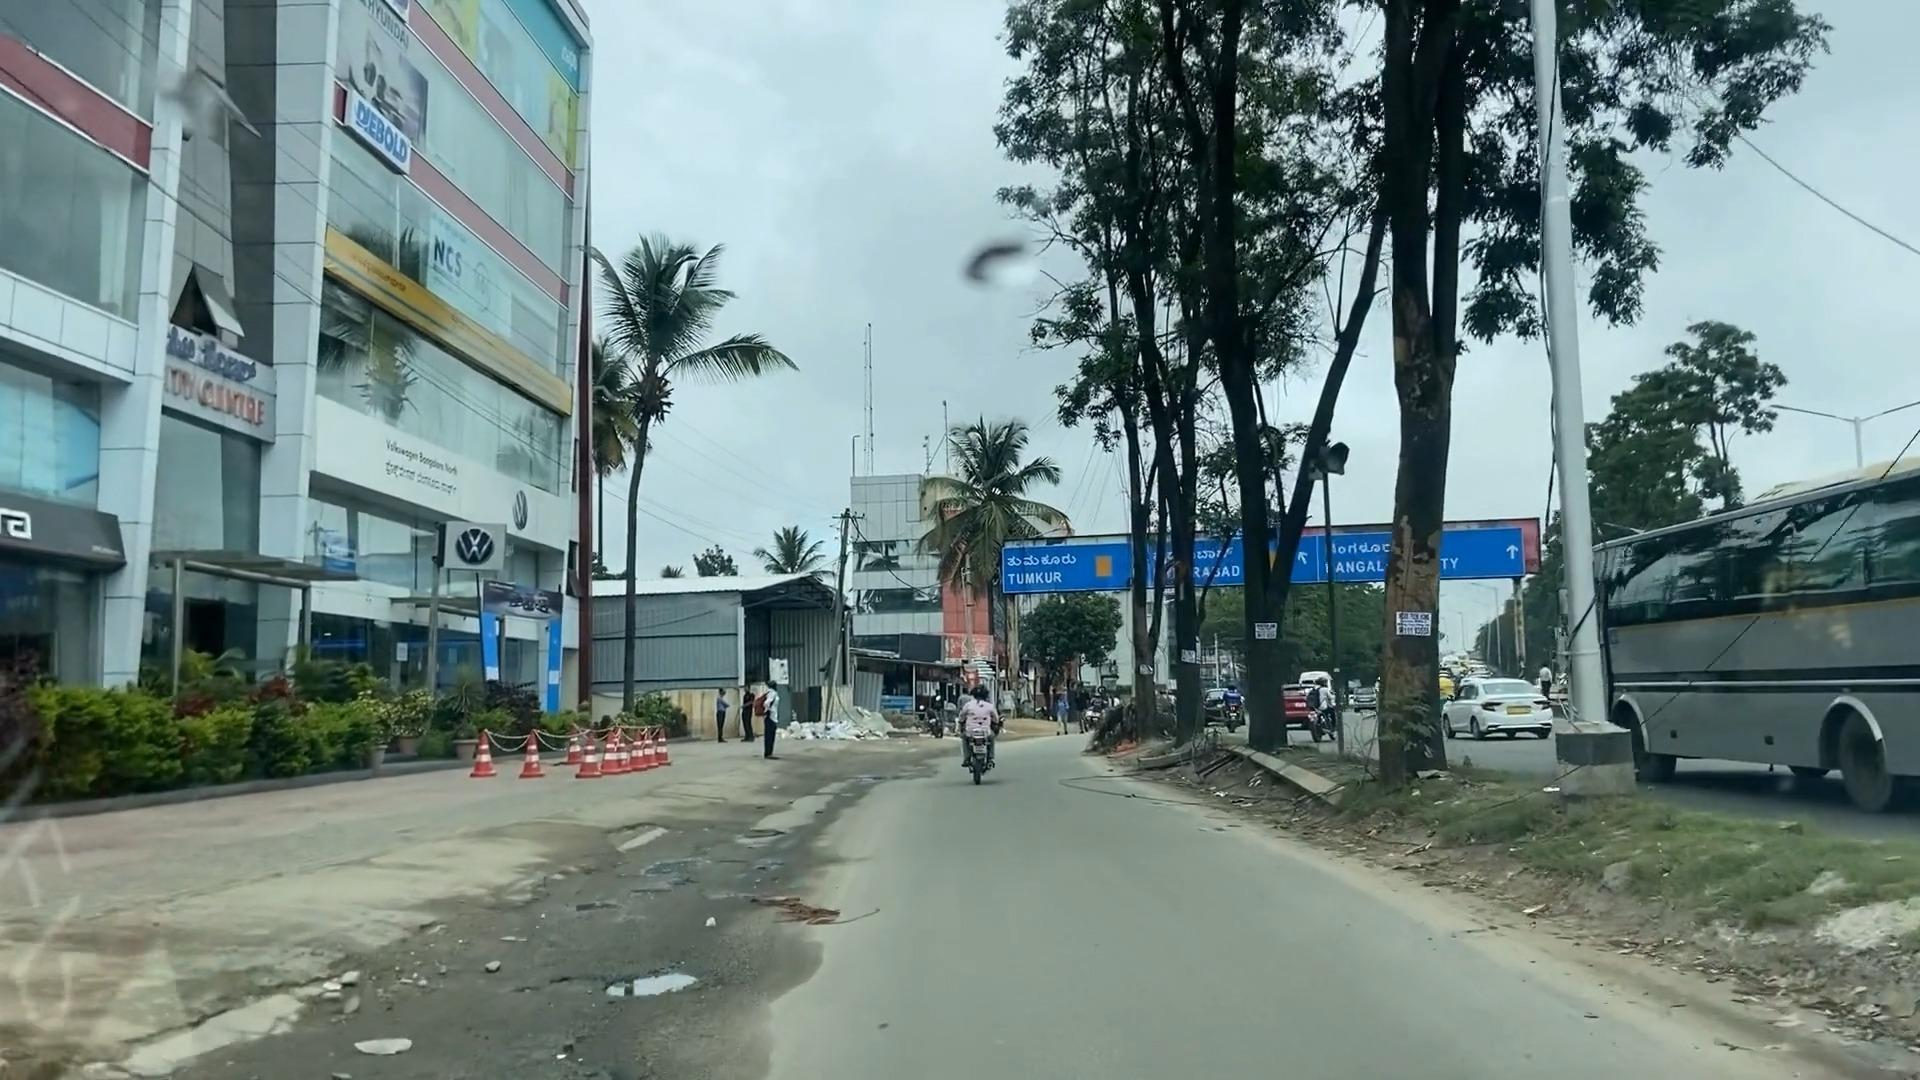RoadDamages: (469, 836, 844, 935), (493, 943, 719, 1080), (740, 773, 848, 844)
